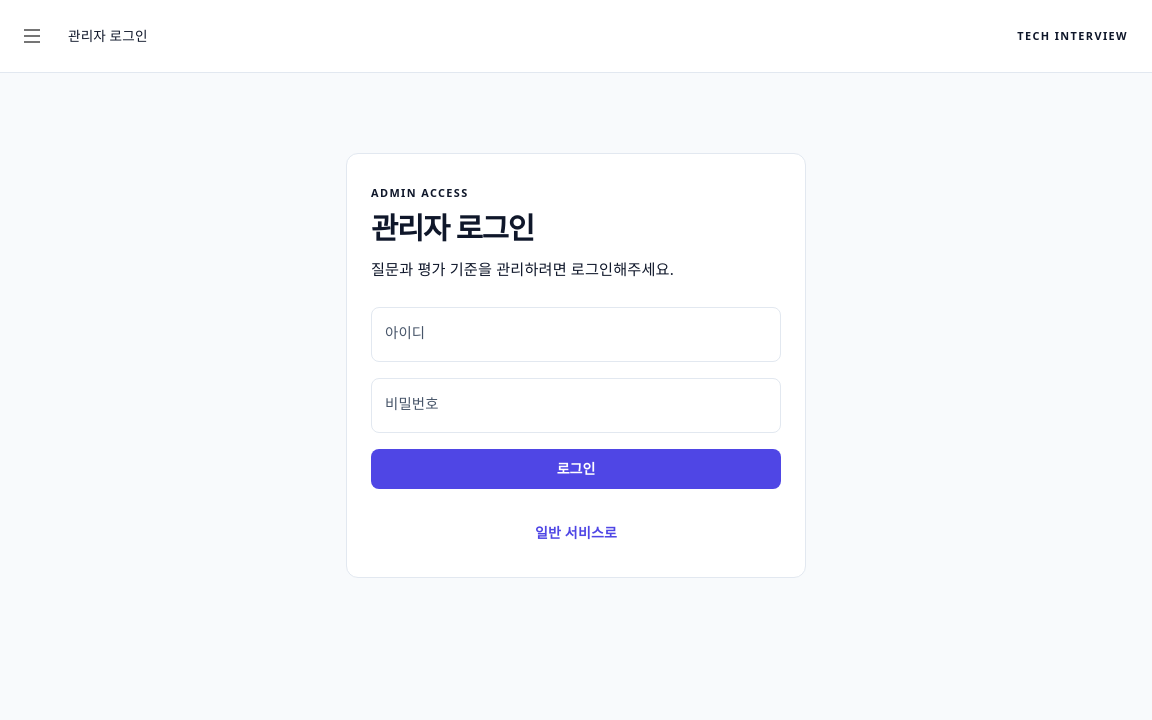
Test case: keeps login ID and clears password after status 401 INVALID_CREDENTIALS without replay
The width and height of the screenshot is (1152, 720).
Step 1. Type "admin" into the field labelled "아이디" → (576, 335), box 371,307 -> 781,362
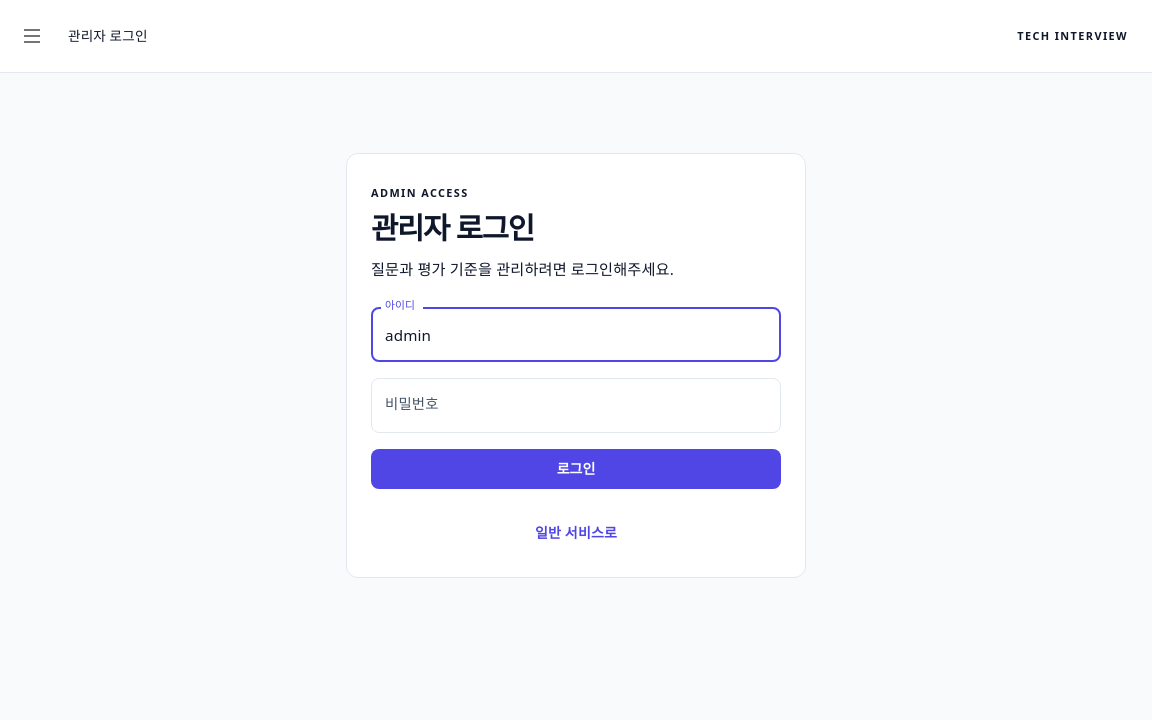
Step 2. Type "test-password" into the password field labelled "비밀번호" → (576, 406), box 371,378 -> 781,433
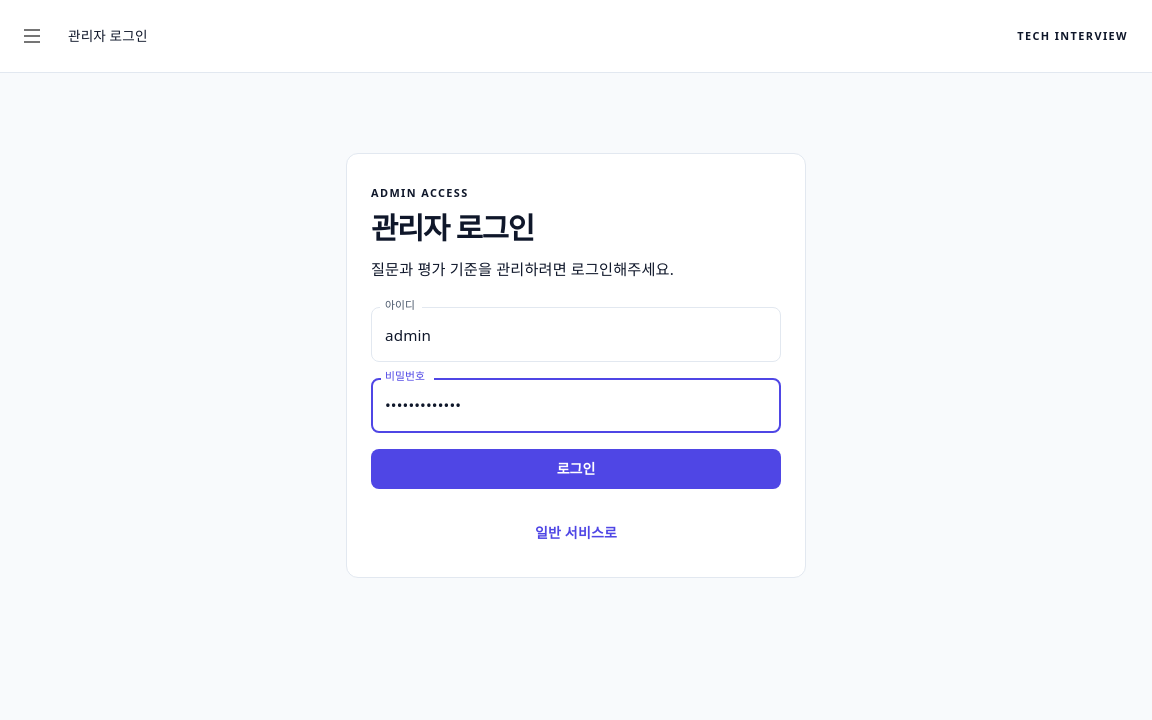
Step 3. Click the button "로그인" → (576, 469), box 371,449 -> 781,489
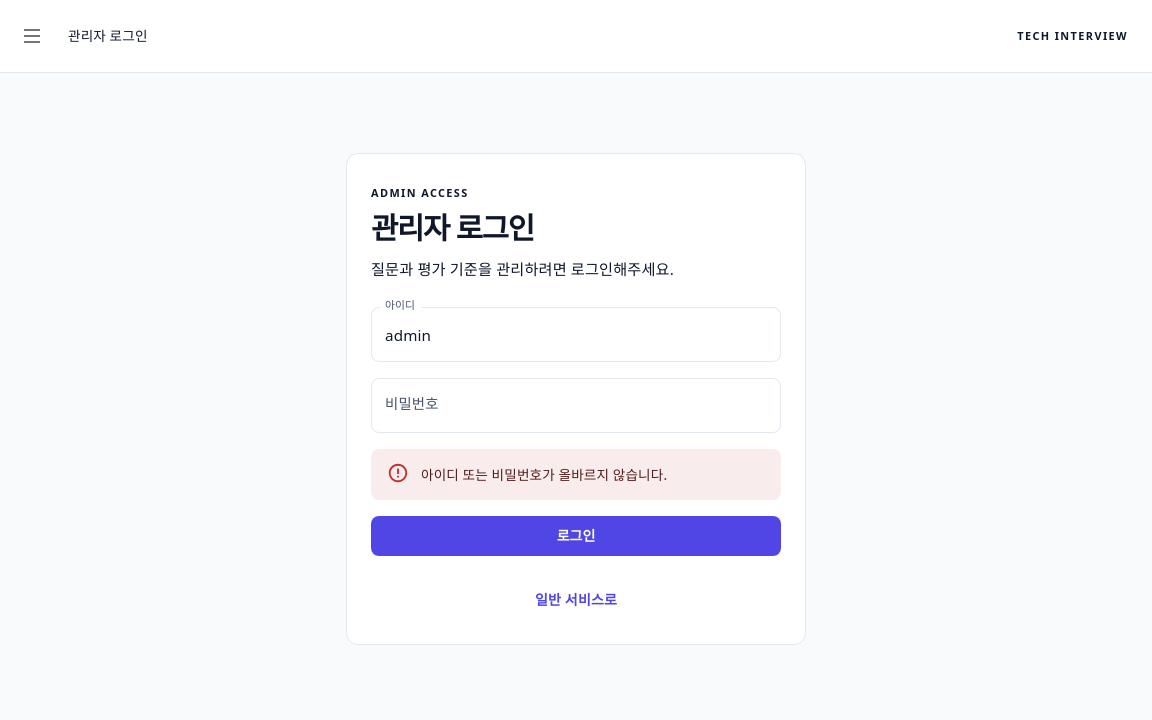
Expected: the message reads "아이디 또는 비밀번호가 올바르지 않습니다.", 421,465 -> 667,484
Expected: the password field labelled "비밀번호" is empty, 371,378 -> 781,433
